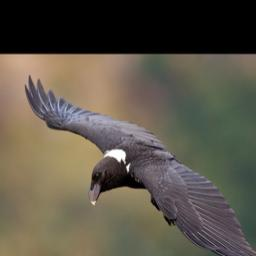Crow: (23, 74, 256, 256)
